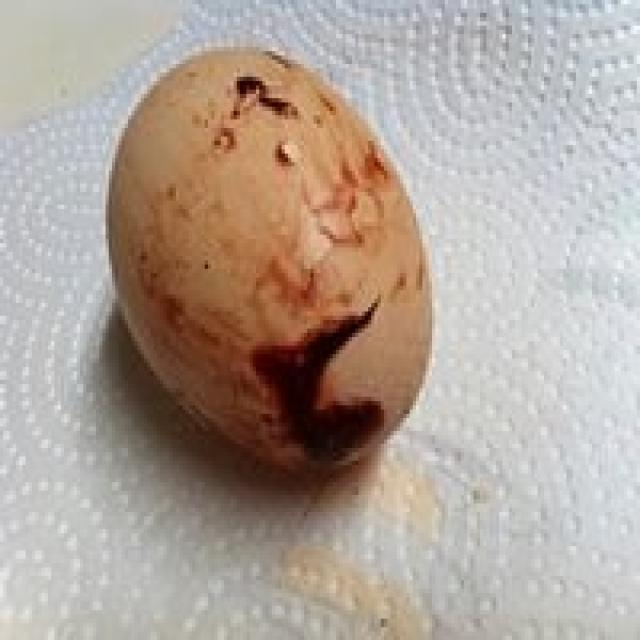Blood Stained Egg: (96, 36, 443, 486)
